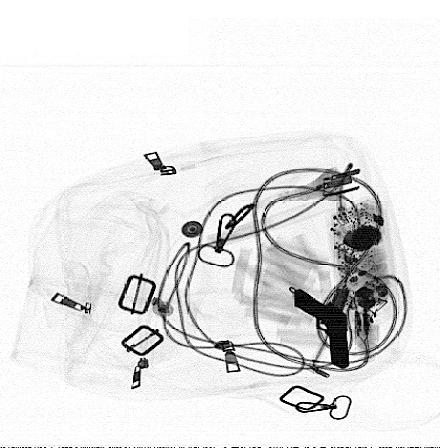Gun: (293, 290, 349, 372)
